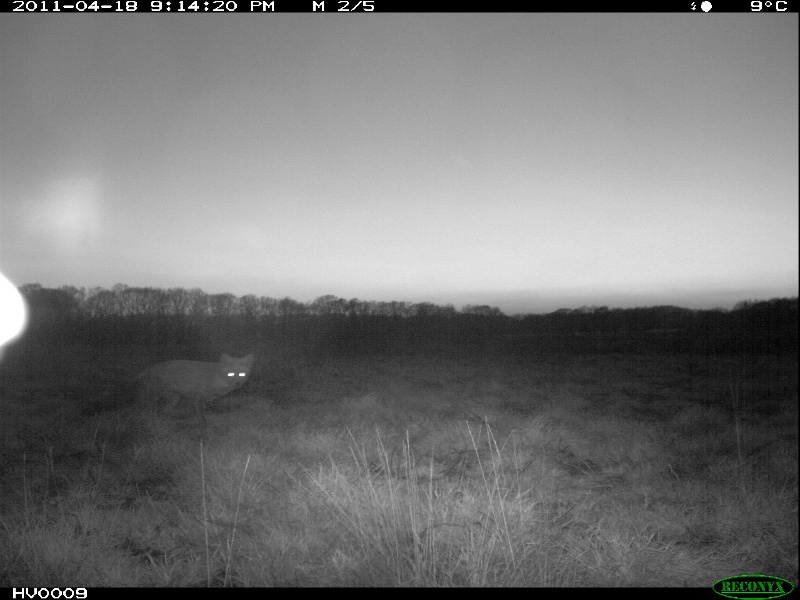fox: (84, 350, 265, 432)
